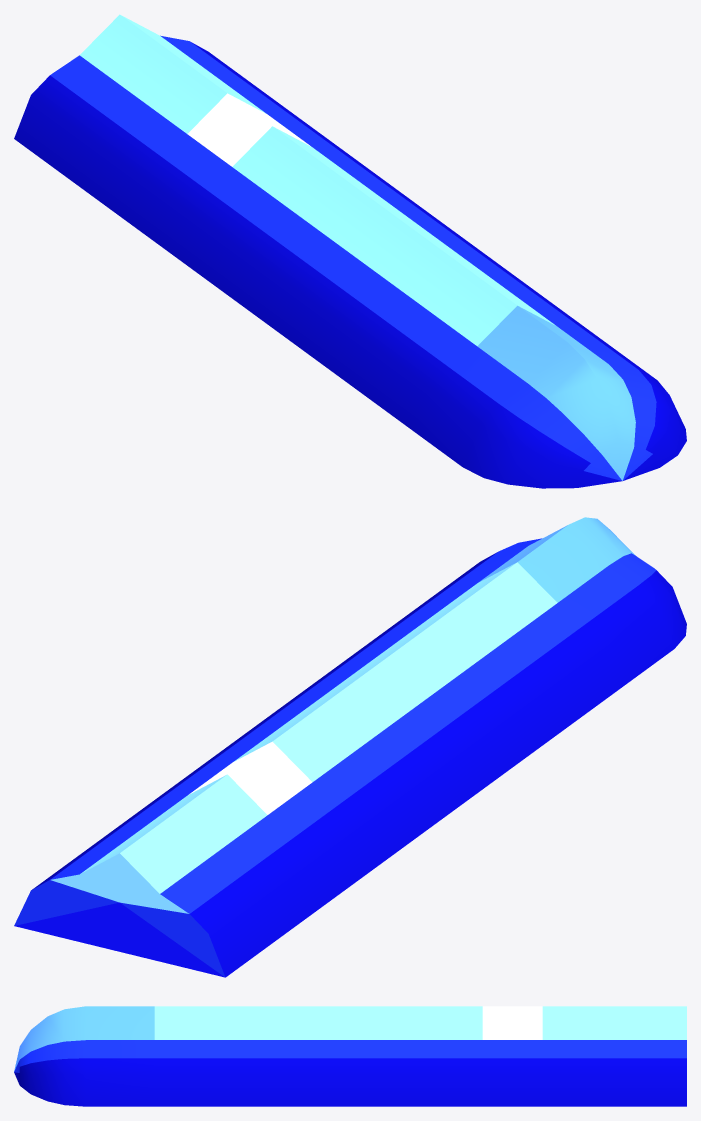
The model's file is shot_needle_190.glb.
3 views of the same model, one above another, from view 1: azimuth 30°, elevation 25°; view 2: azimuth 150°, elevation 25°; view 3: azimuth 270°, elevation 25° (orthographic). The views are drawn at different scales.
Visible parts, largest first — view 1: shot_needle_190; view 2: shot_needle_190; view 3: shot_needle_190.
Part boxes in pixels (box(x1,y1,x2,y2)): shot_needle_190: box(14, 14, 686, 488); shot_needle_190: box(14, 517, 686, 977); shot_needle_190: box(14, 1006, 686, 1106).
Size of the model in its own units: 3.4 by 1.51 by 14.
